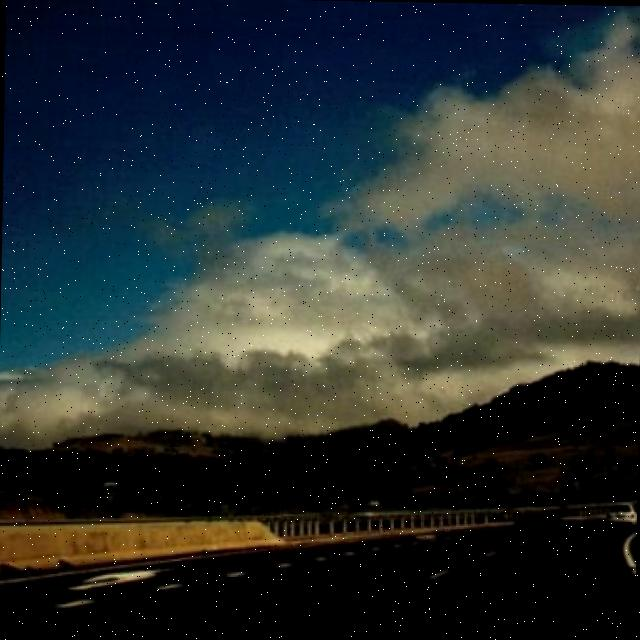Sc: (1, 28, 640, 425)
